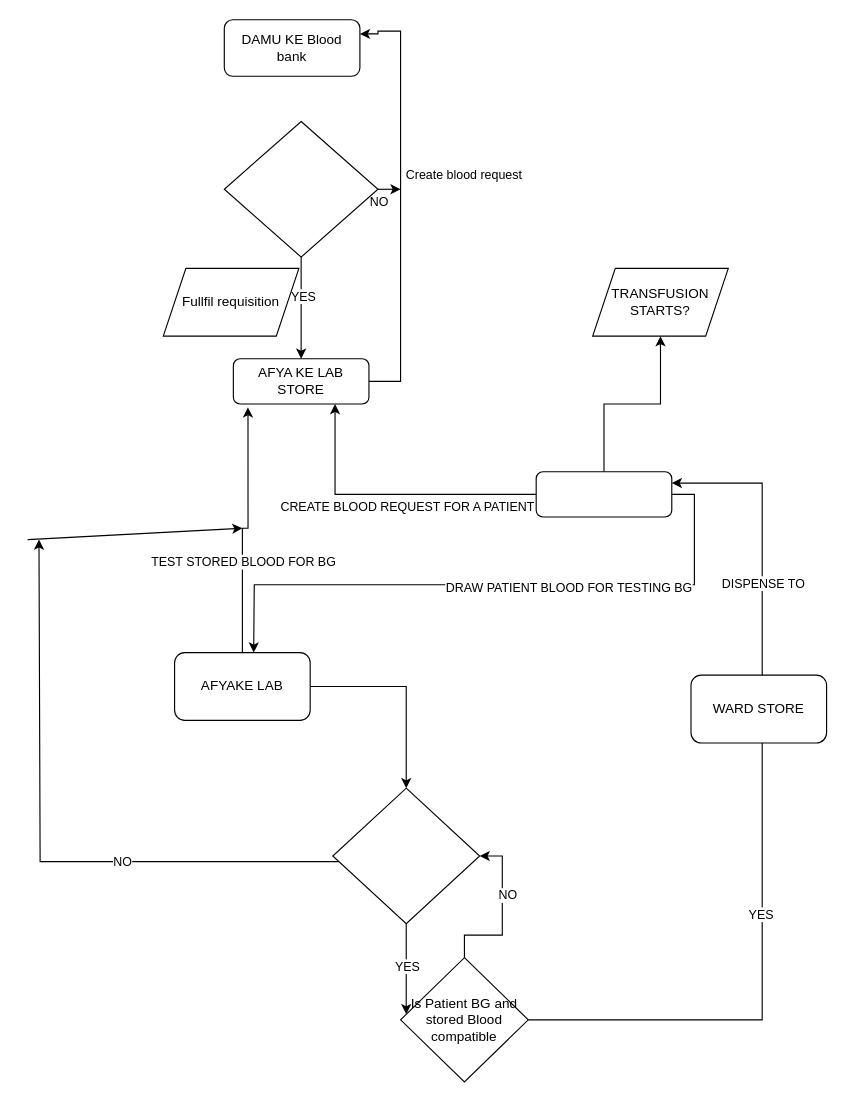
The diagram is 846 pixels wide and 1102 high, and some of its shapes have lost their labels. Each missing label, with the centre of its shape:
Does patient BG and stored BG match: (406,855)
Is requested blood available: (300,188)
PATIENT IN WARD: (603,494)
